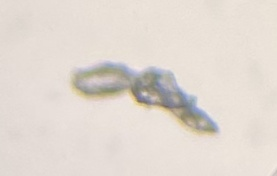microplastic: (71, 61, 220, 135)
